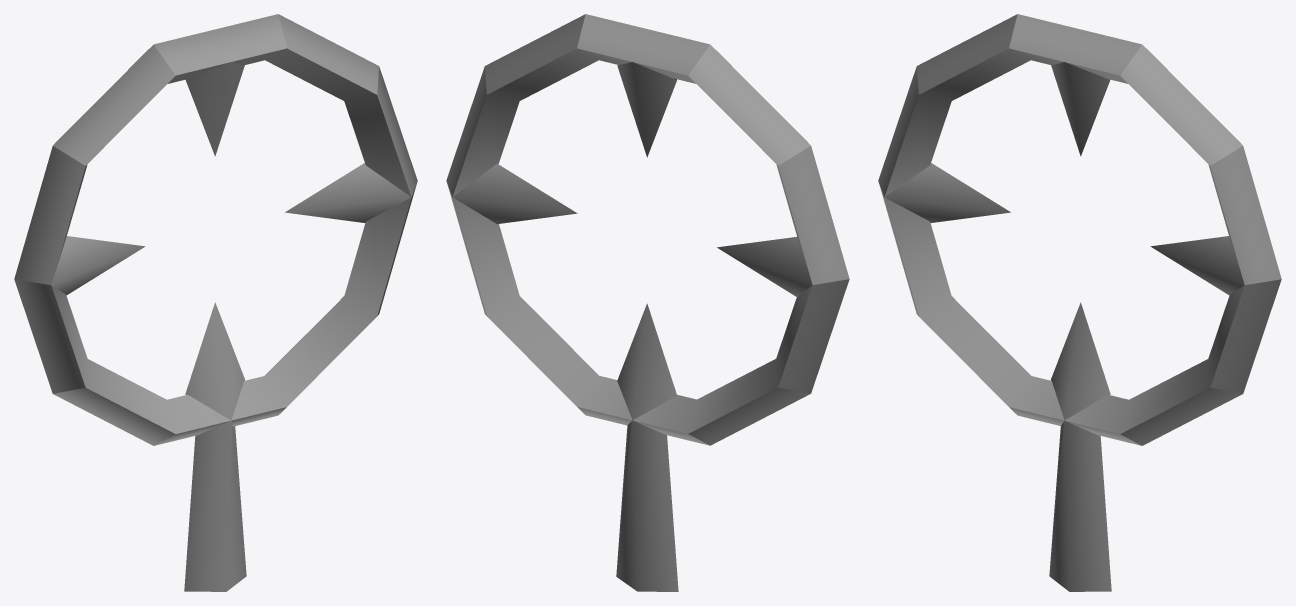
File: Car_addons_FBX.fbx
3 views of the same model, side by side, from view 1: azimuth 30°, elevation 25°; view 2: azimuth 150°, elevation 25°; view 3: azimuth 330°, elevation 25° (orthographic).
Visible parts, largest first — view 1: car_target; view 2: car_target; view 3: car_target.
Part boxes in pixels (left/top/right/bottom): car_target: left=14, top=14, right=417, bottom=591; car_target: left=446, top=14, right=849, bottom=591; car_target: left=878, top=14, right=1281, bottom=591.
Bounding box in the file's own units: 27.86 × 36.62 × 3.69.
